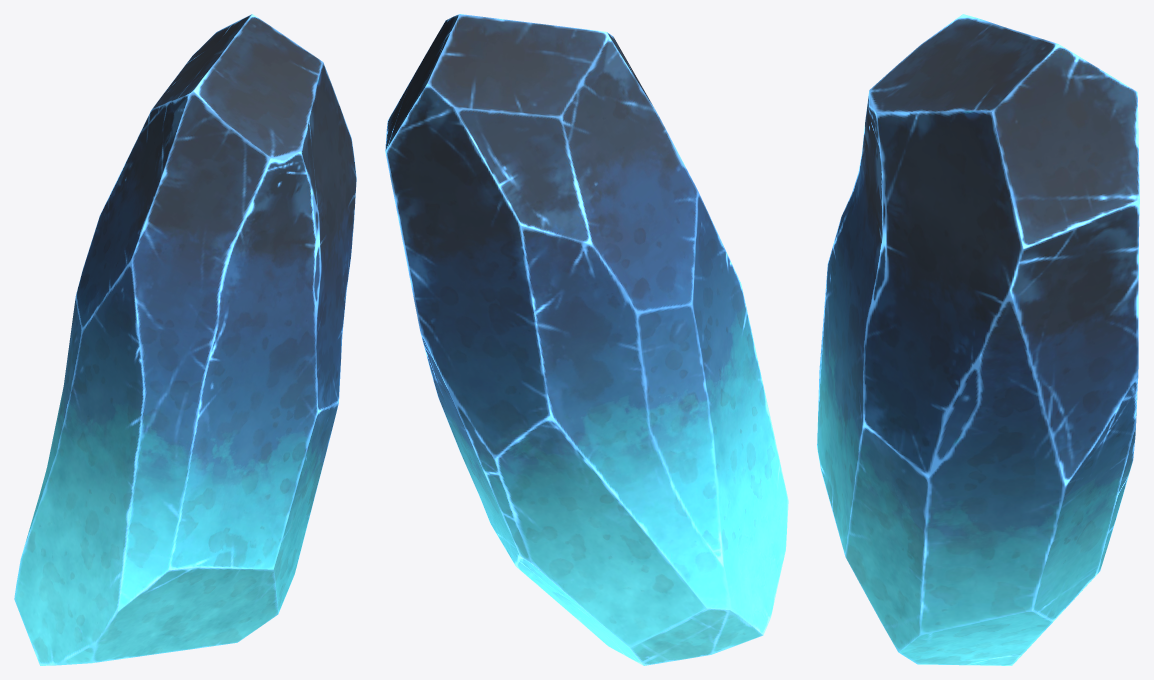
File: enchanted_crystal.glb
3 views of the same model, side by side, from view 1: azimuth 30°, elevation 25°; view 2: azimuth 150°, elevation 25°; view 3: azimuth 270°, elevation 25° (orthographic). The views are drawn at different scales.
Parts seen in each view (by area): view 1: Crystal_low.002; view 2: Crystal_low.002; view 3: Crystal_low.002.
Boxes of the visible parts, <box> form: Crystal_low.002: <box>14,14,356,665</box>; Crystal_low.002: <box>385,14,788,665</box>; Crystal_low.002: <box>817,14,1139,665</box>.
Size of the model in its own units: 0.0709 by 0.1195 by 0.0504.
1 material, 1 textured.
